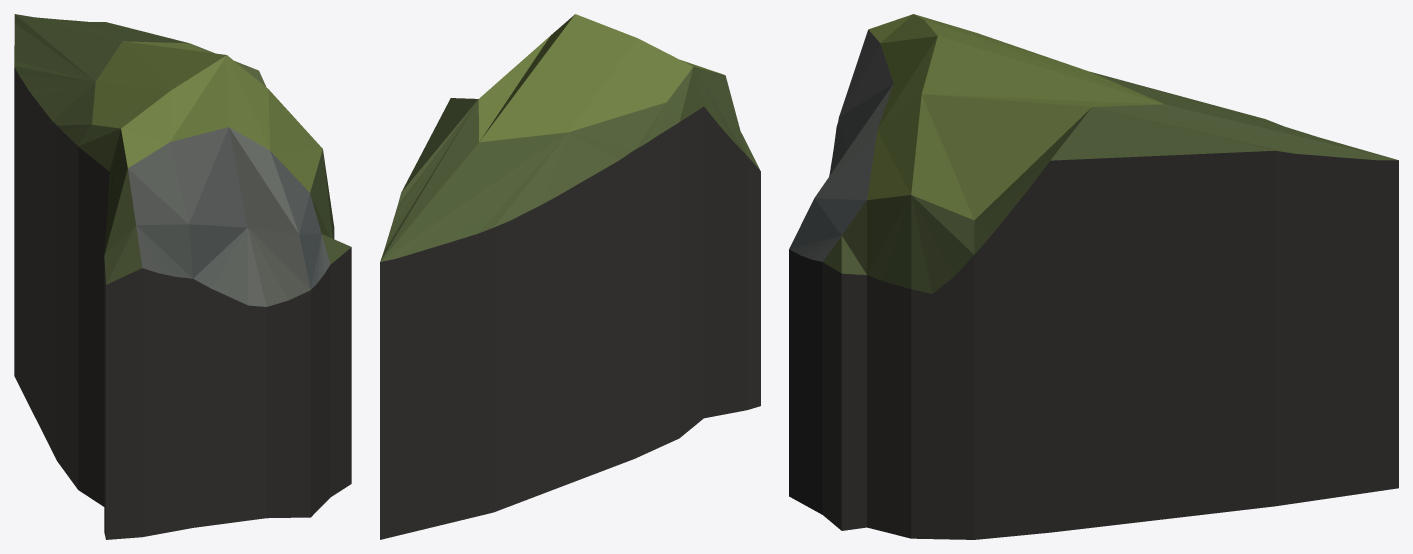
The model's file is cliff_sections_central_wall.glb.
3 views of the same model, side by side, from view 1: azimuth 30°, elevation 25°; view 2: azimuth 150°, elevation 25°; view 3: azimuth 270°, elevation 25° (orthographic). The views are drawn at different scales.
Parts seen in each view (by area): view 1: Front columns study; view 2: Front columns study; view 3: Front columns study.
Part boxes in pixels (x1,y1,x2,y2): Front columns study: [14, 14, 351, 539]; Front columns study: [380, 14, 760, 539]; Front columns study: [789, 14, 1398, 539].
Size of the model in its own units: 51.4 by 79 by 96.56.
